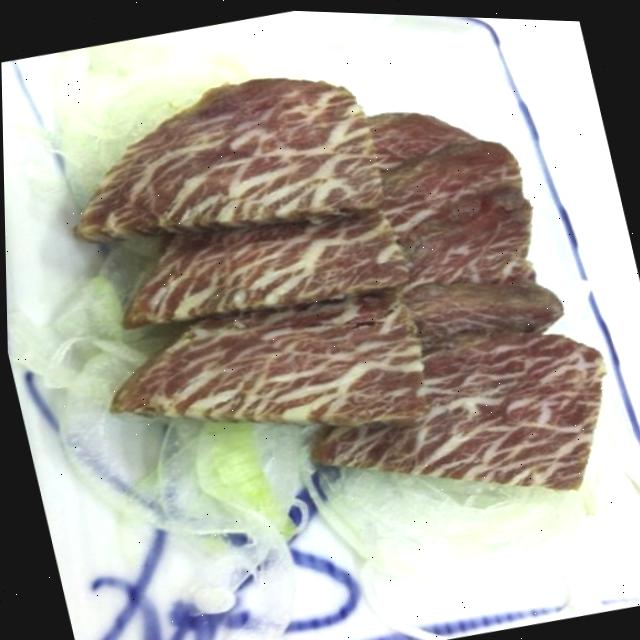刺身生食: (45, 4, 640, 593)
